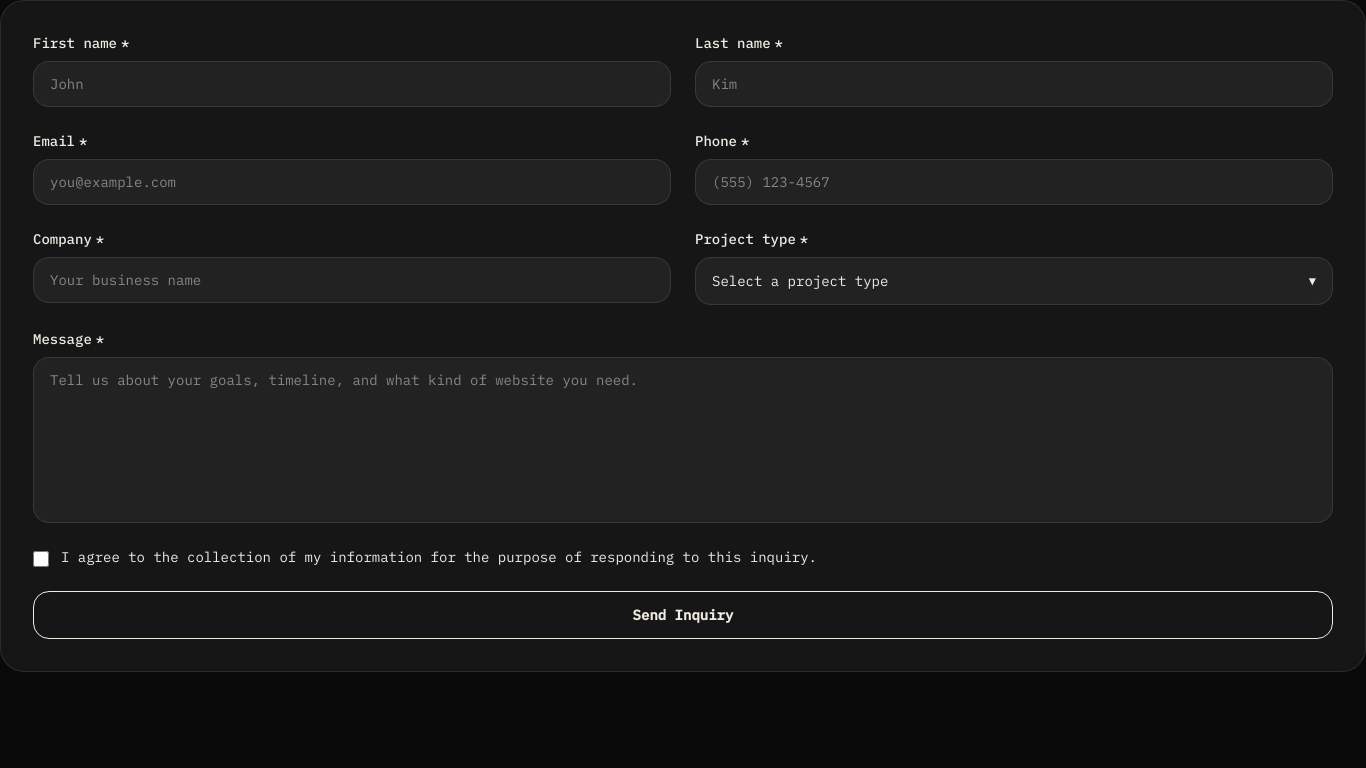
Test case: ContactForm › allows selecting a project type from the custom select
Click the button "Select a project type ▼" at (800, 281), box [695,257,1333,305]
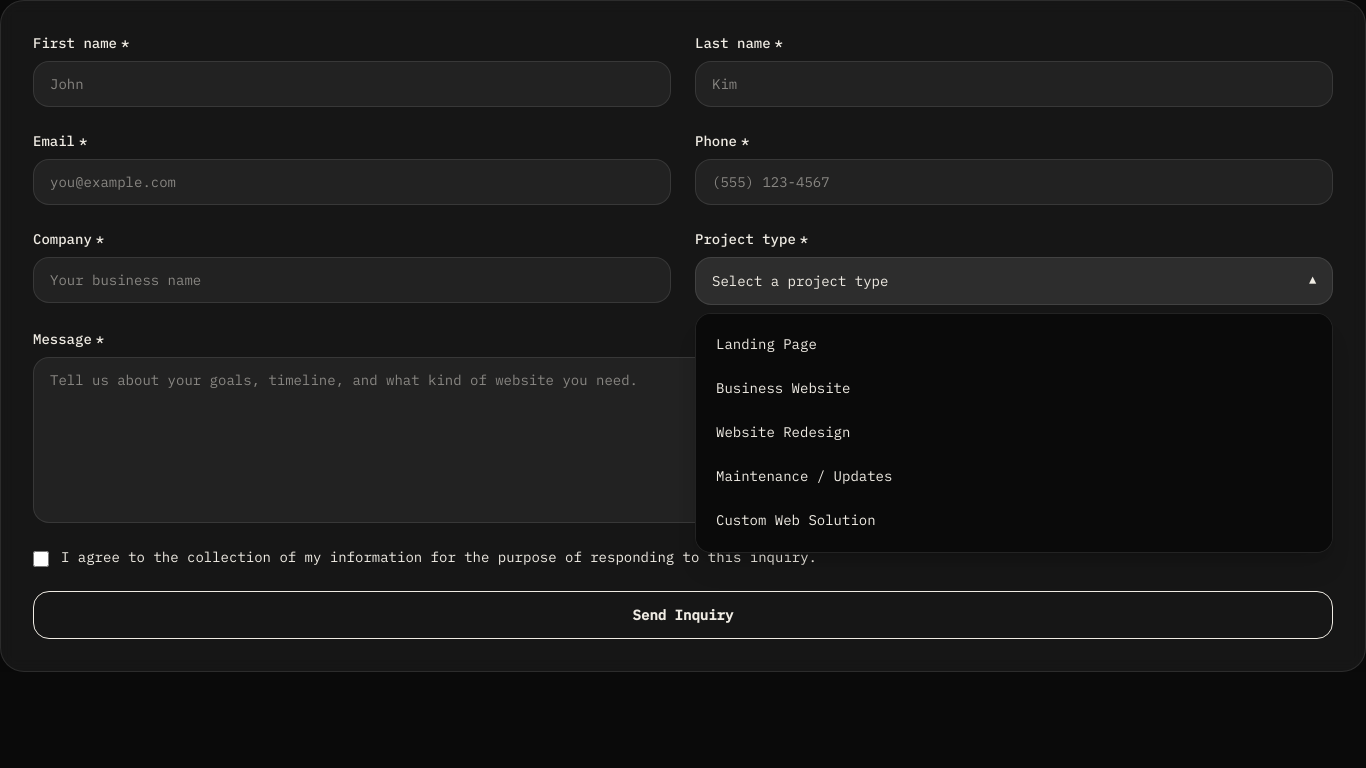
Click the option "Landing Page" at (766, 344), box [704,322,1324,366]
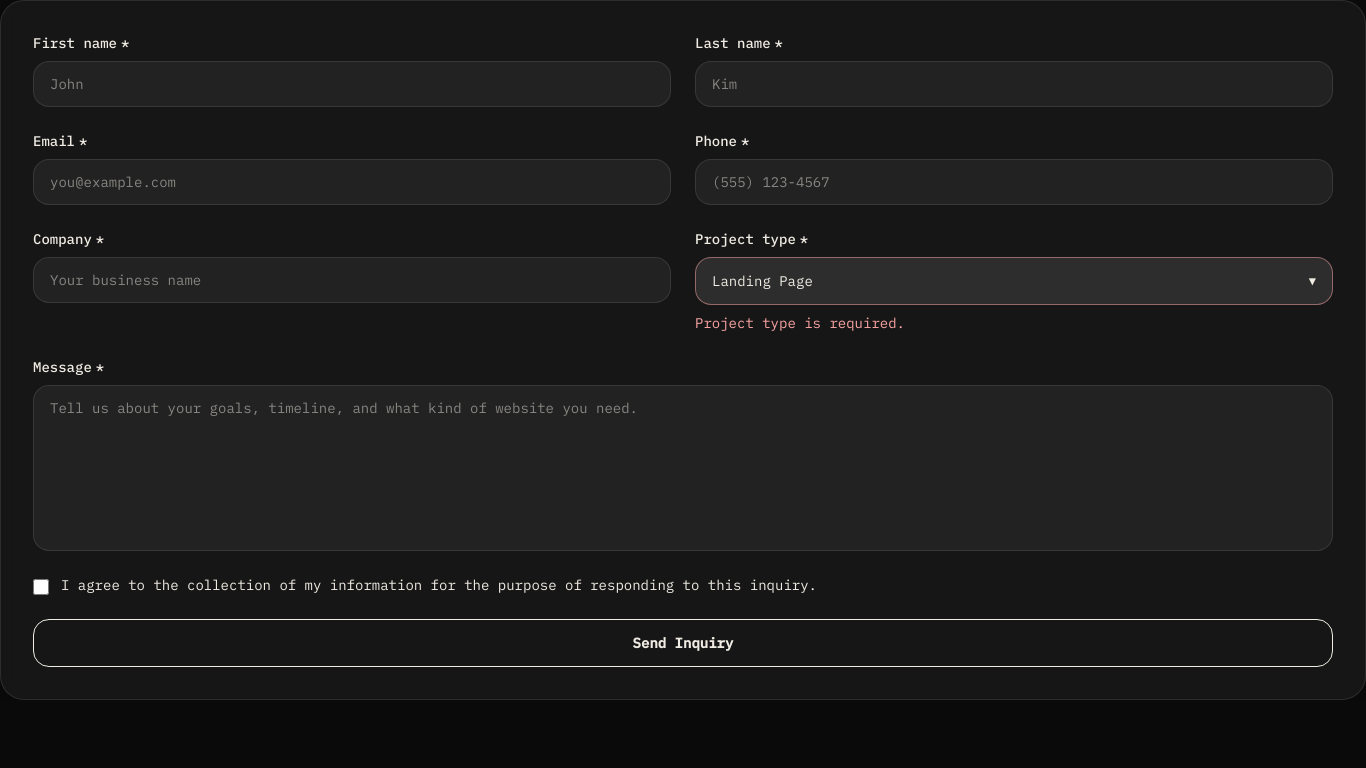
Check: the button named "project type" shows "Landing Page", box [695,257,1333,305]
